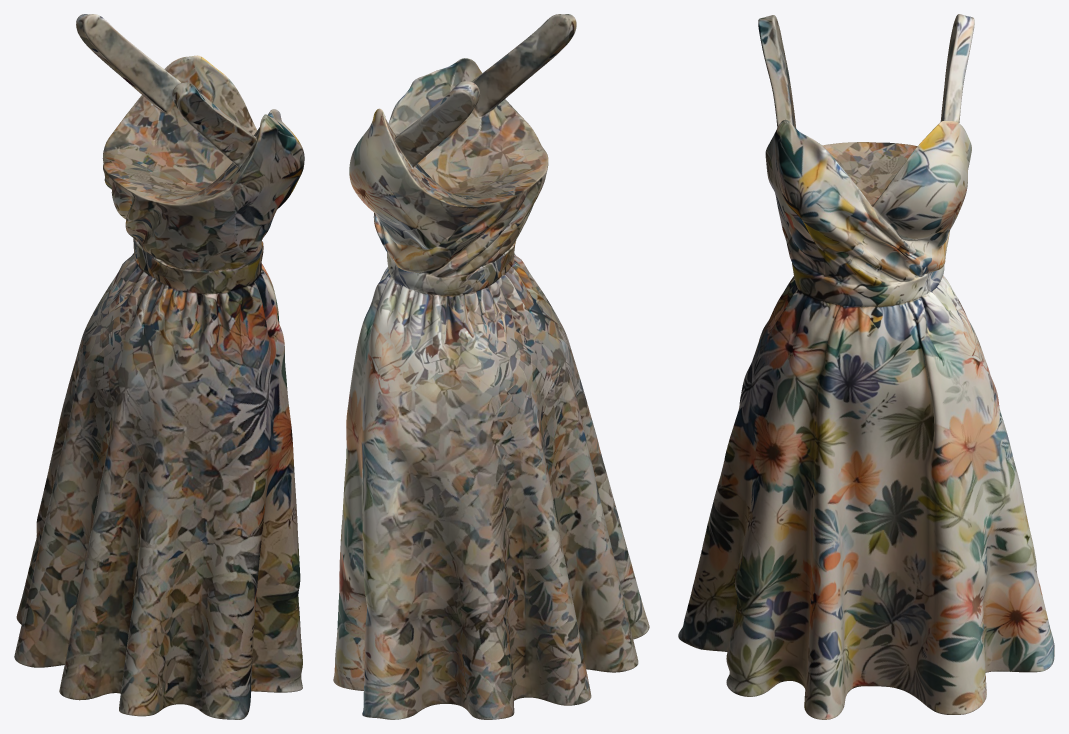
The model's file is tripo_dress.glb.
The picture shows the model from 3 angles, left to right: view 1: azimuth 30°, elevation 25°; view 2: azimuth 150°, elevation 25°; view 3: azimuth 270°, elevation 25°; orthographic projection.
Visible parts, largest first — view 1: part_0; view 2: part_0; view 3: part_0.
Boxes of the visible parts, x1,y1,x2,y2 form: part_0: (14, 14, 304, 719); part_0: (333, 14, 649, 719); part_0: (678, 14, 1054, 719).
Bounding box in the file's own units: 0.3934 × 0.9787 × 0.5257.
1 material, 1 textured.
